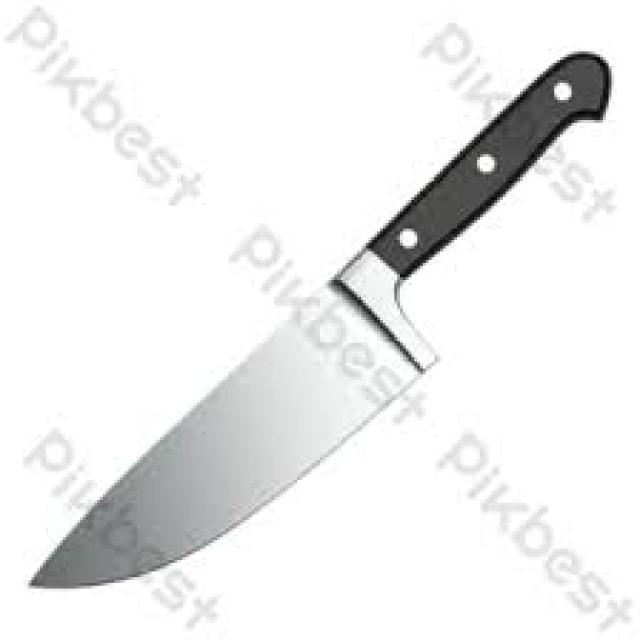Knife: (29, 49, 609, 589)
